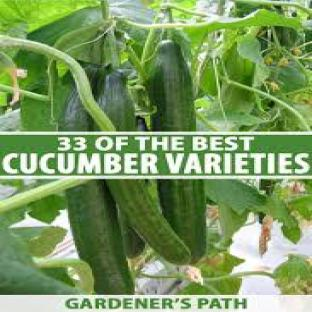Cucumber: (67, 181, 134, 294), (108, 180, 190, 265), (149, 40, 196, 131), (0, 260, 81, 294), (98, 71, 136, 131)
